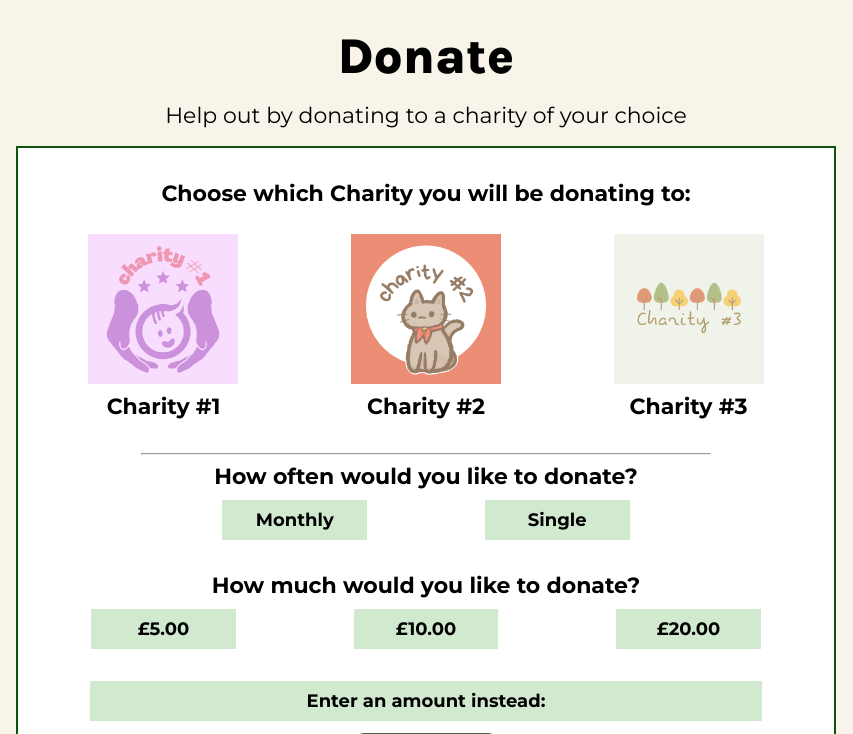
Test: should return an error if the user hasn't selected a charity
Click the radio button labelled "Single" at (557, 520), box [485,500,630,540]
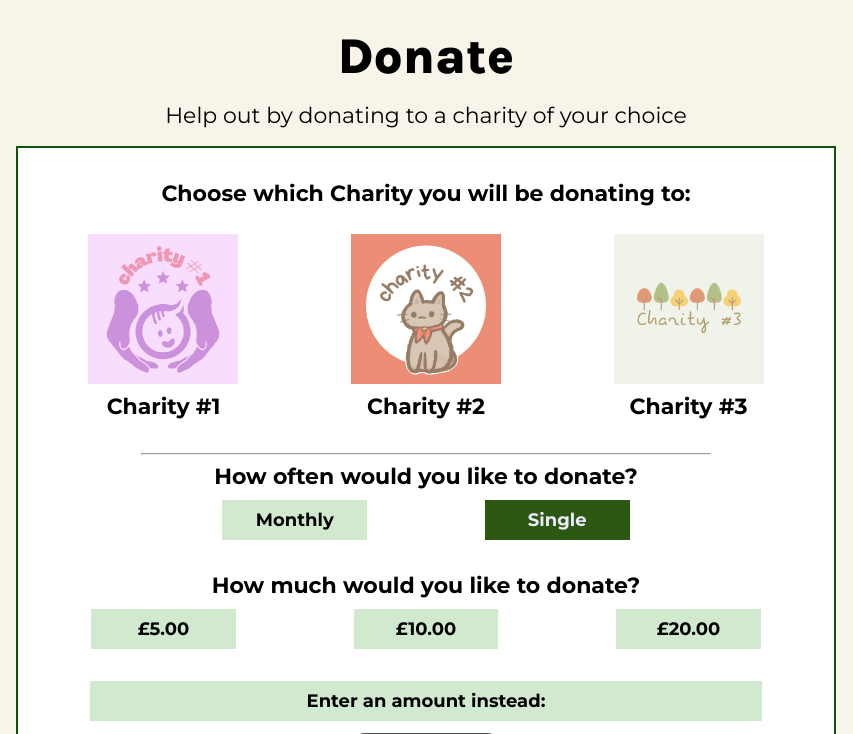
Click the radio button labelled "£5.00" at (163, 629), box [91,609,236,649]
(page scrolled)
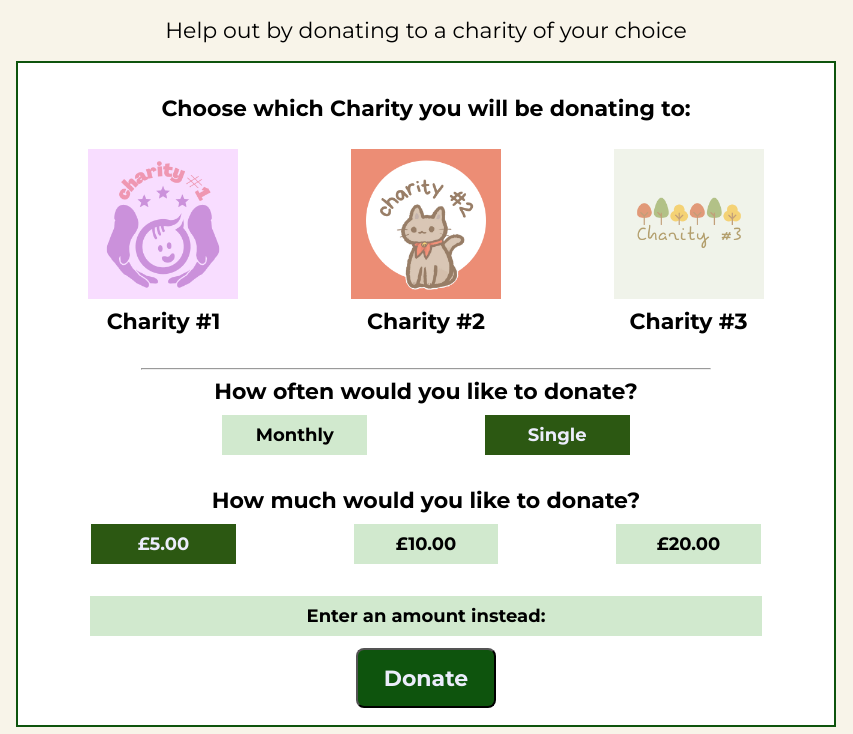
Submit the form from the button "Donate", box [356,648,496,708]
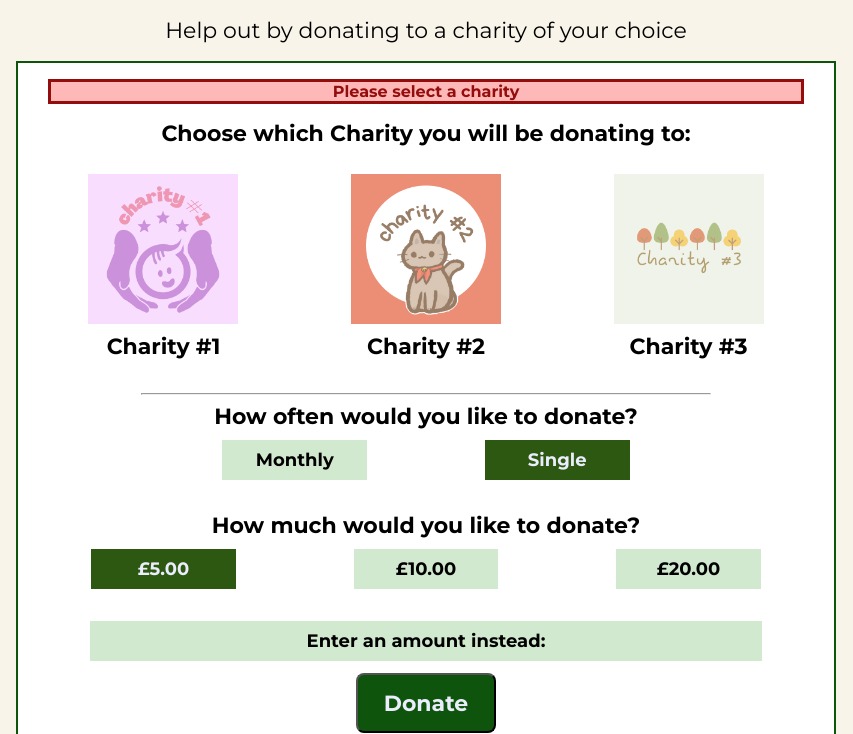
Now the text "Please select a charity" is shown, box [48,79,804,104]
